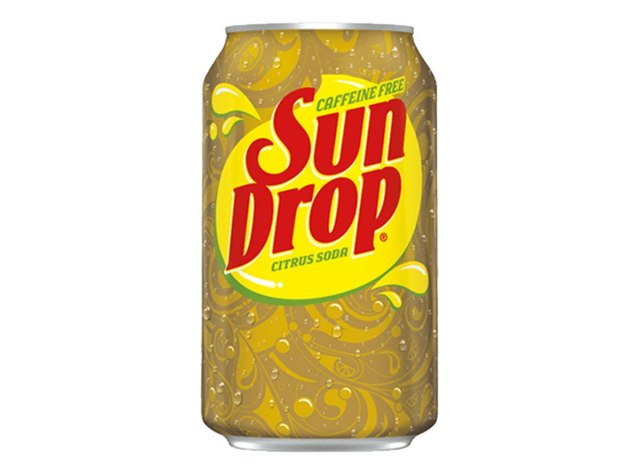can: (200, 20, 441, 455)
